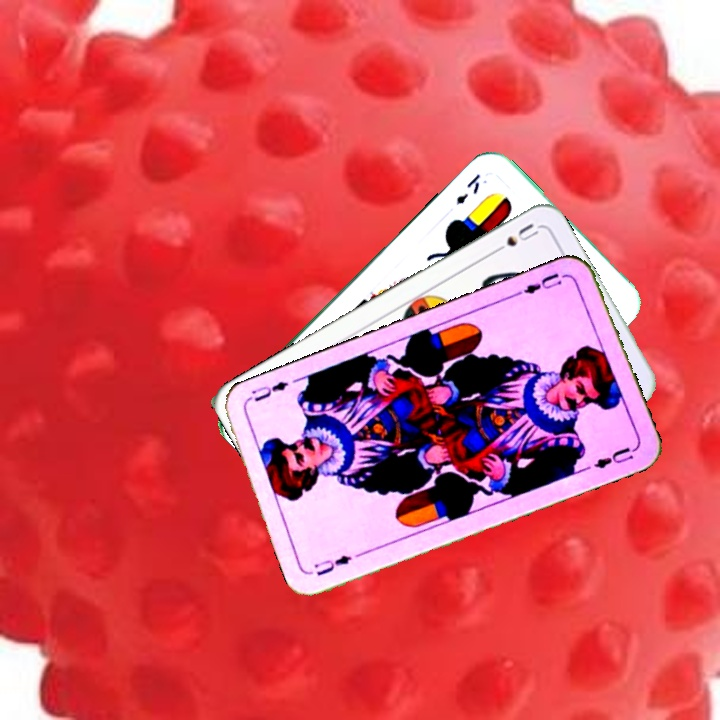EK: (452, 170, 483, 207)
EU: (512, 269, 569, 299), (310, 551, 354, 578)
SU: (487, 219, 541, 258)
